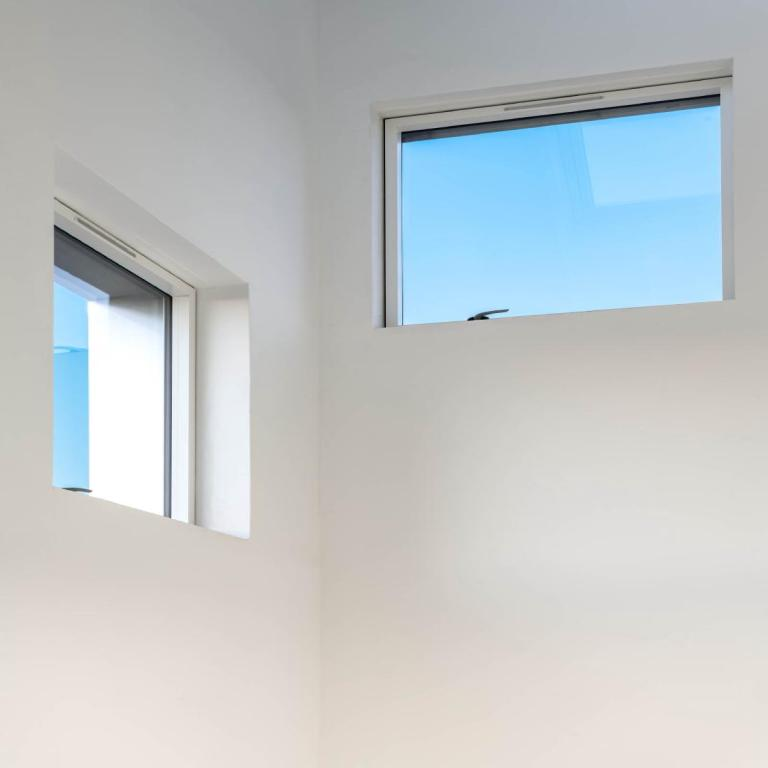white-walls: (261, 318, 755, 714)
